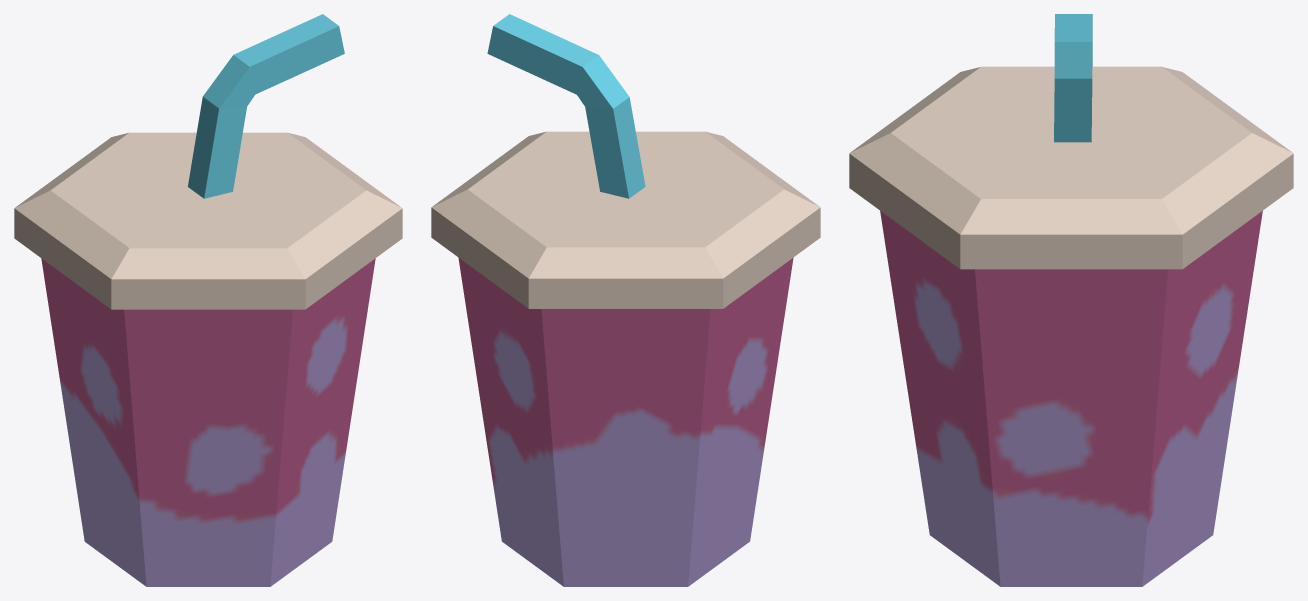
The model's file is cozyjam_prop_cup_w_straw_a_v002.fbx.
3 renders of one model, left to right at view 1: azimuth 30°, elevation 25°; view 2: azimuth 150°, elevation 25°; view 3: azimuth 270°, elevation 25°, orthographic. The views are drawn at different scales.
Parts seen in each view (by area): view 1: Cylinder.001, Cube.001; view 2: Cylinder.001, Cube.001; view 3: Cylinder.001, Cube.001.
Boxes of the visible parts, left/top/right/bottom form: Cylinder.001: left=14, top=132, right=402, bottom=586; Cube.001: left=188, top=14, right=344, bottom=198; Cylinder.001: left=431, top=131, right=820, bottom=586; Cube.001: left=487, top=14, right=645, bottom=198; Cylinder.001: left=849, top=66, right=1293, bottom=586; Cube.001: left=1054, top=14, right=1092, bottom=142.
Bounding box in the file's own units: 28.27 × 45.53 × 32.65.
